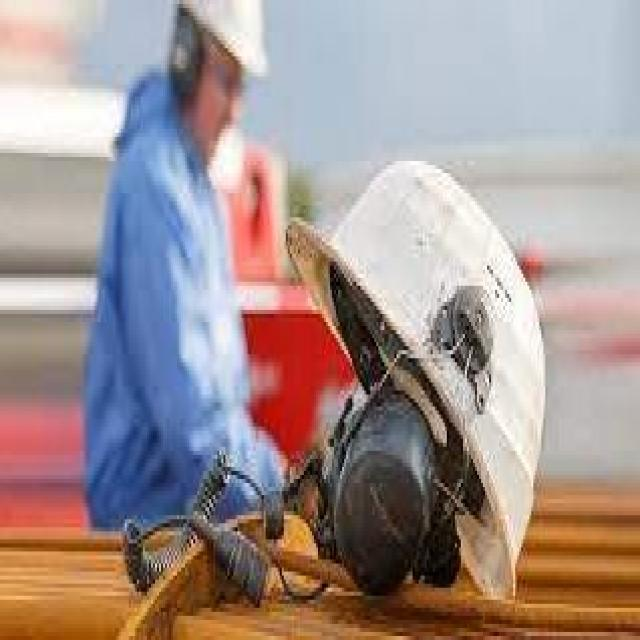Safety-Helmet: (159, 0, 280, 97)
